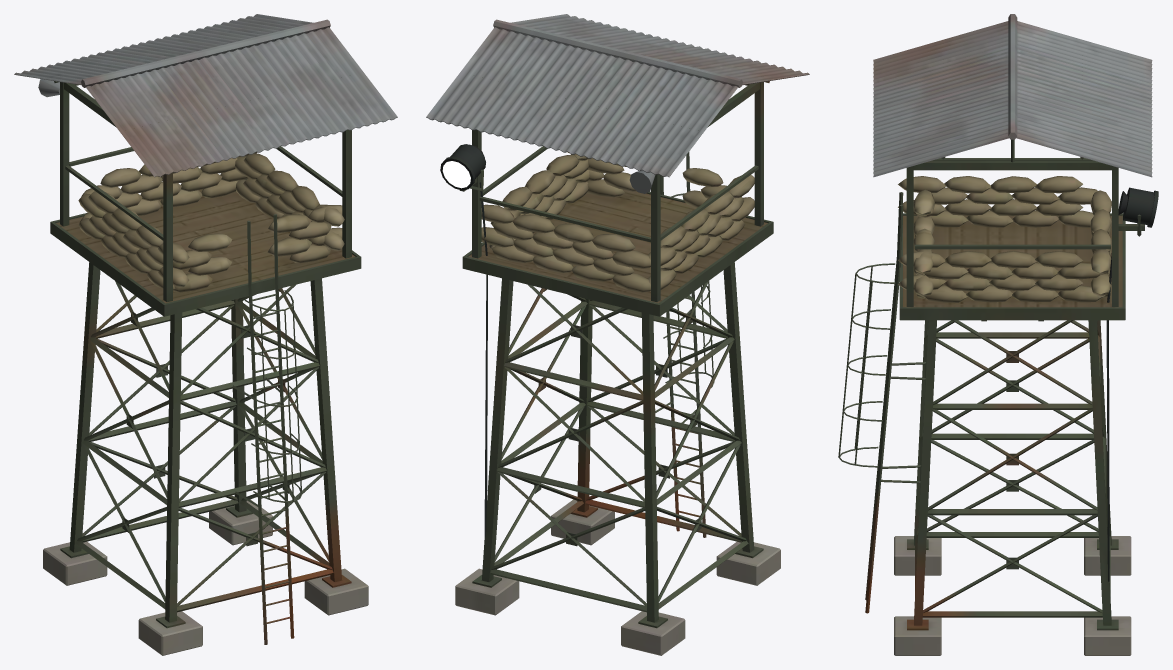
File: base_watchtower.glb
3 renders of one model, left to right at view 1: azimuth 30°, elevation 25°; view 2: azimuth 150°, elevation 25°; view 3: azimuth 270°, elevation 25°, orthographic.
Visible parts, largest first — view 1: lod0; view 2: lod0, lamp_search; view 3: lod0.
Part boxes in pixels (bbox=[...]): lod0: bbox=[14, 14, 397, 655]; lod0: bbox=[426, 14, 809, 655]; lamp_search: bbox=[442, 161, 470, 188]; lod0: bbox=[838, 14, 1158, 655].
Size of what is drawn, in the model's own units: 4.44 by 9.29 by 5.06.
Materials: 2 (1 with a texture image).
